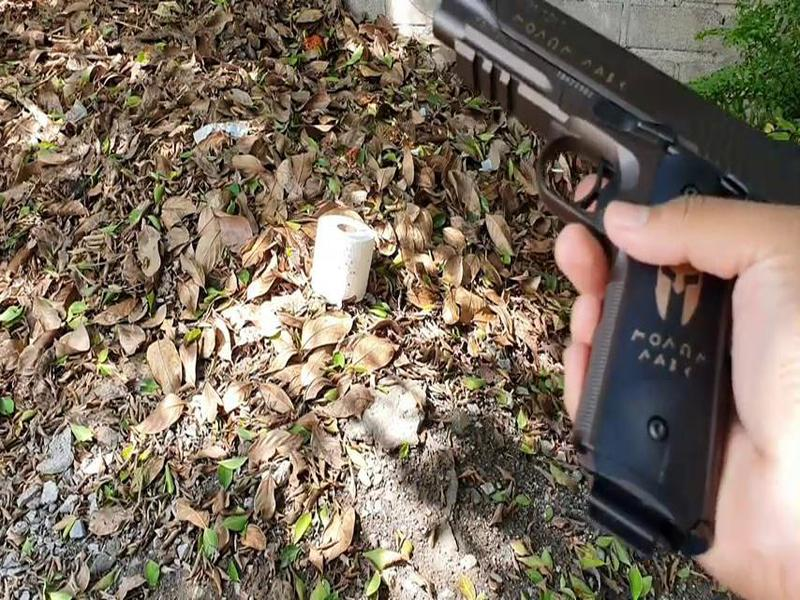Pistola: (362, 1, 782, 543)
